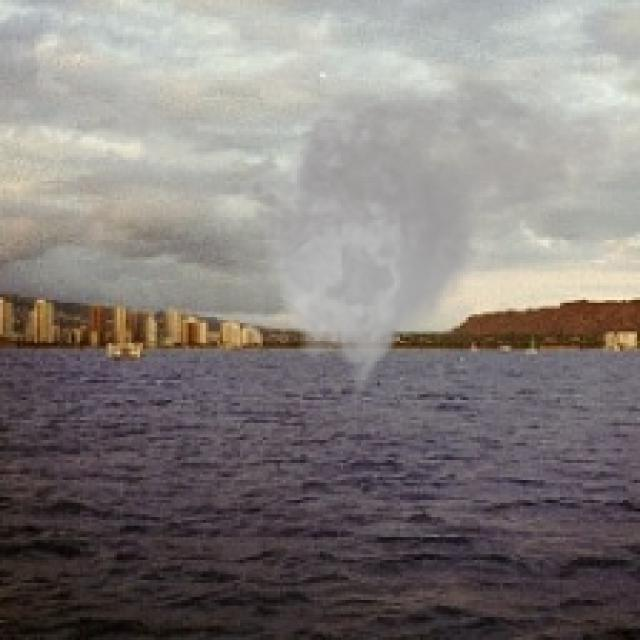smoke: (217, 57, 623, 417)
